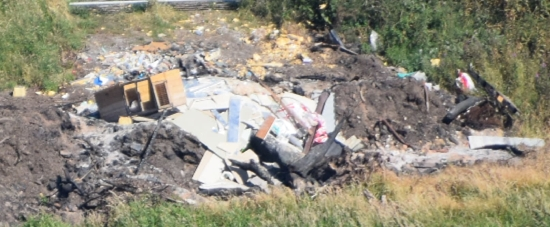cuboid: (91, 66, 193, 126)
straight_bar: (124, 108, 174, 179), (467, 64, 523, 116), (467, 124, 549, 156), (299, 84, 332, 156), (442, 91, 488, 125), (221, 93, 249, 146), (378, 110, 414, 149), (251, 109, 278, 144)
together_barrel: (311, 21, 479, 102)
white_in_green: (1, 70, 36, 112)
